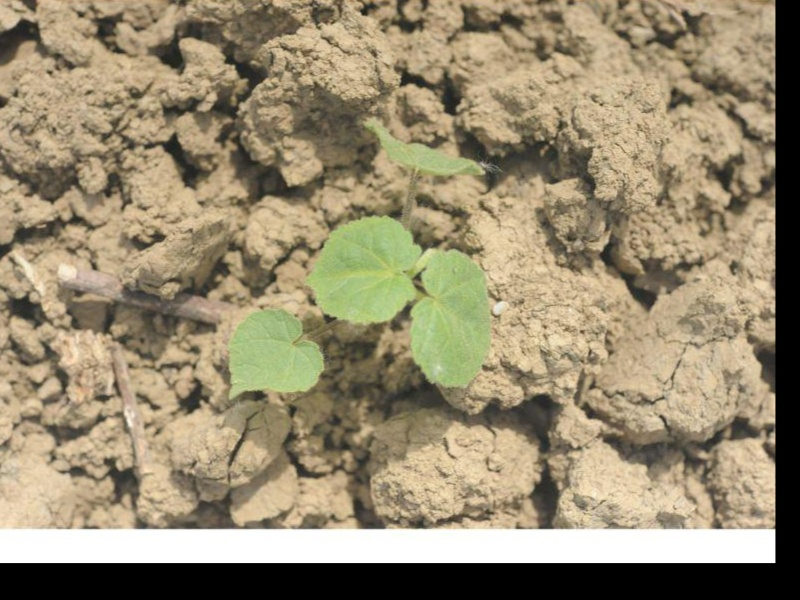velvet: (227, 121, 493, 405)
